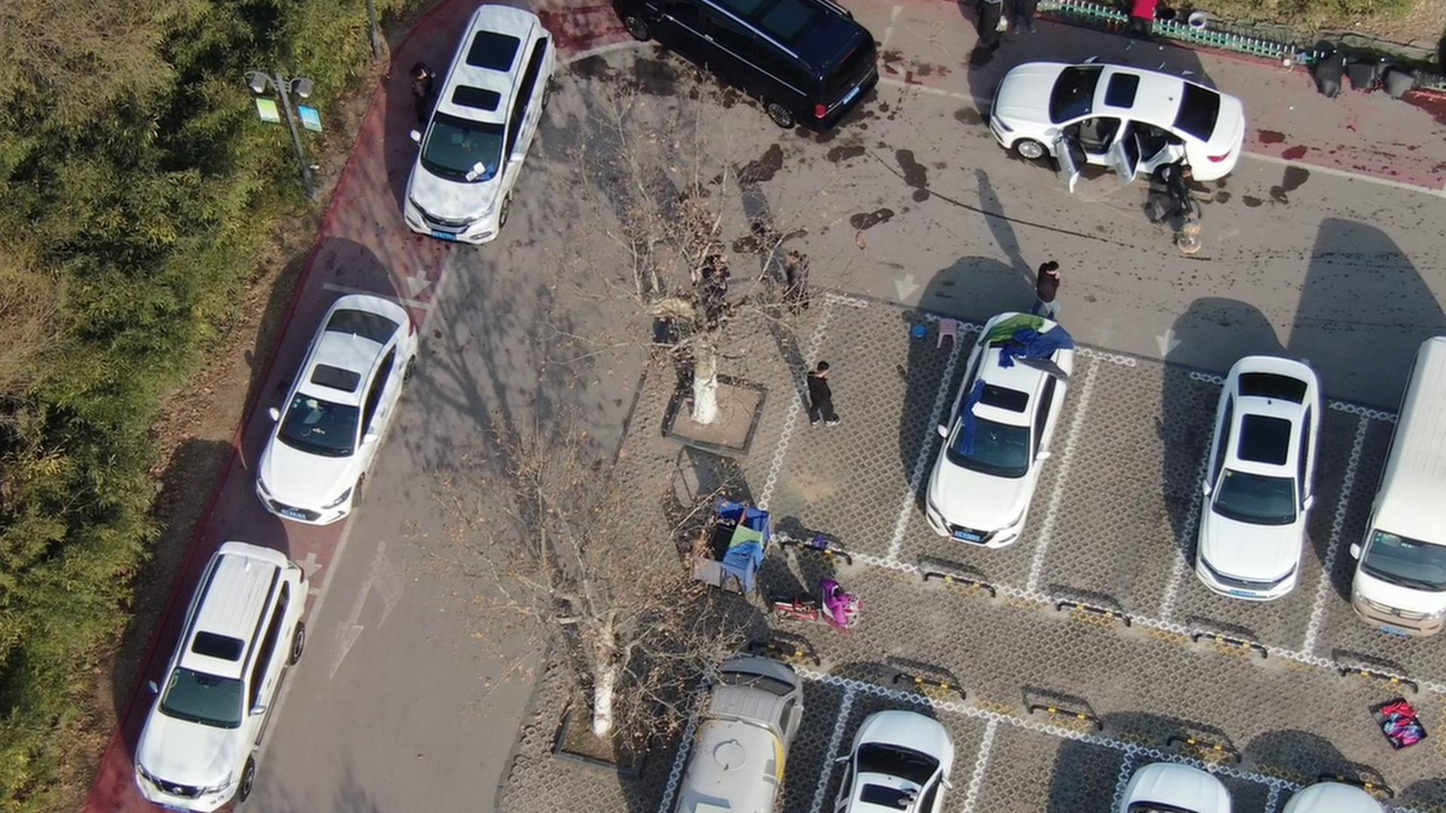human: (1161, 142, 1206, 231), (784, 244, 824, 327), (1030, 260, 1072, 323), (419, 56, 452, 124), (809, 355, 840, 425), (1134, 1, 1163, 41), (1018, 1, 1049, 34)
